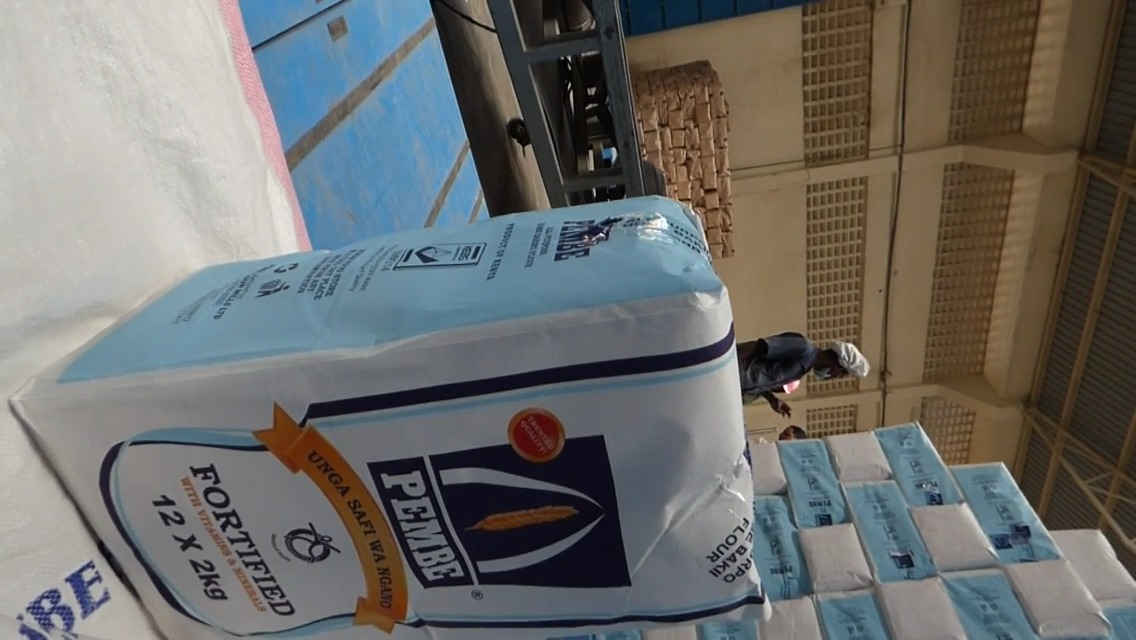wheat_flour_blue_label: (27, 199, 783, 640)
